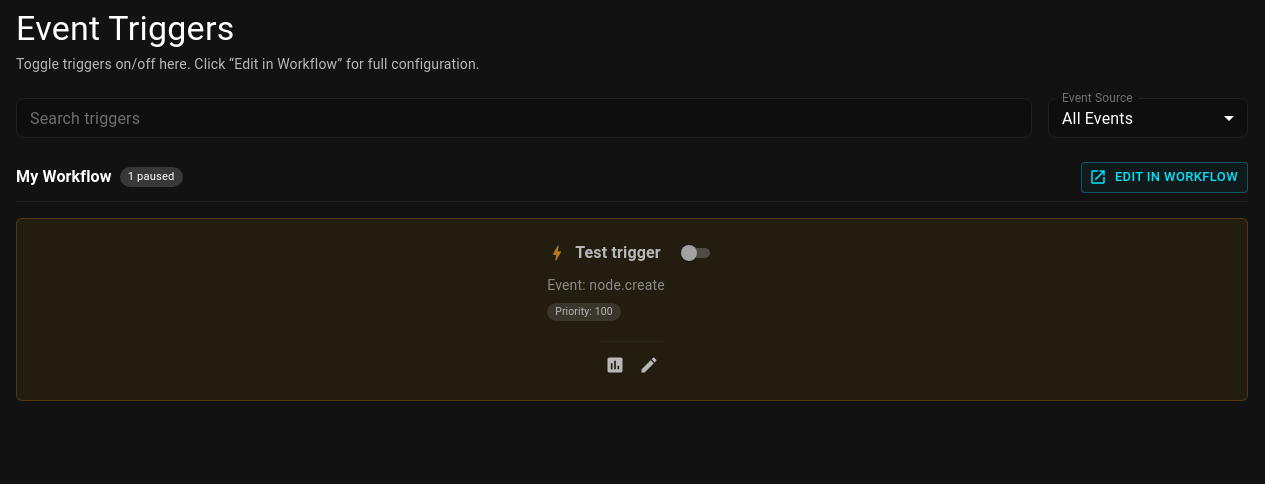
Scenario: TriggersPage › optimistically toggles enabled and rolls back on PATCH failure
Click the toggle → optimistic flip to checked
Click the switch at (689, 253), box [681, 245, 697, 261]
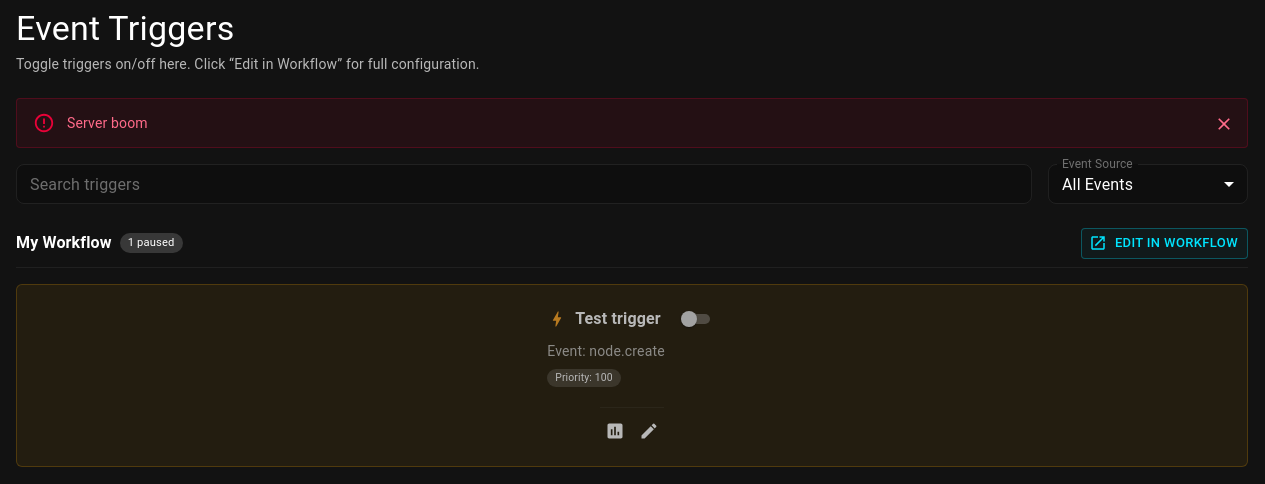
Expected: the switch is not checked, [681, 311, 697, 327]
Now the text "Server boom" is shown, box [67, 115, 148, 131]
